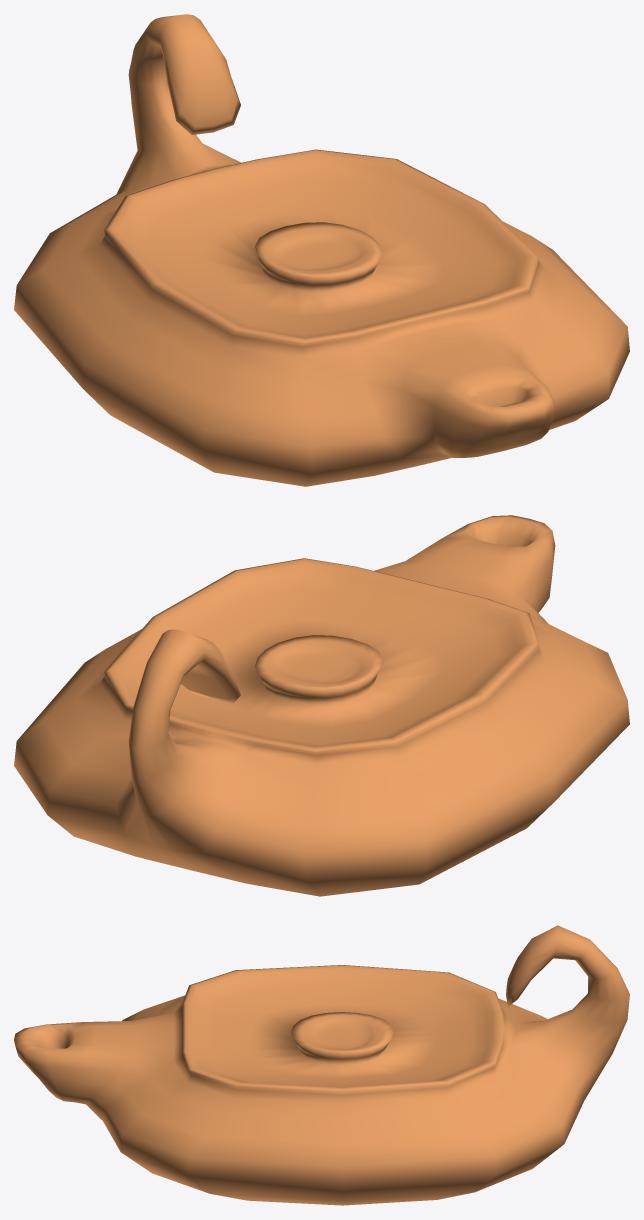
The model's file is Lampara.fbx.
The picture shows the model from 3 angles, top to bottom: view 1: azimuth 30°, elevation 25°; view 2: azimuth 150°, elevation 25°; view 3: azimuth 270°, elevation 25°; orthographic projection. The views are drawn at different scales.
Visible parts, largest first — view 1: Cube.005; view 2: Cube.005; view 3: Cube.005.
Part boxes in pixels (box(x1,y1,x2,y2)): Cube.005: box(14, 14, 629, 486); Cube.005: box(14, 515, 629, 896); Cube.005: box(14, 925, 629, 1205).
Bounding box in the file's own units: 40.06 × 23.42 × 58.02.
